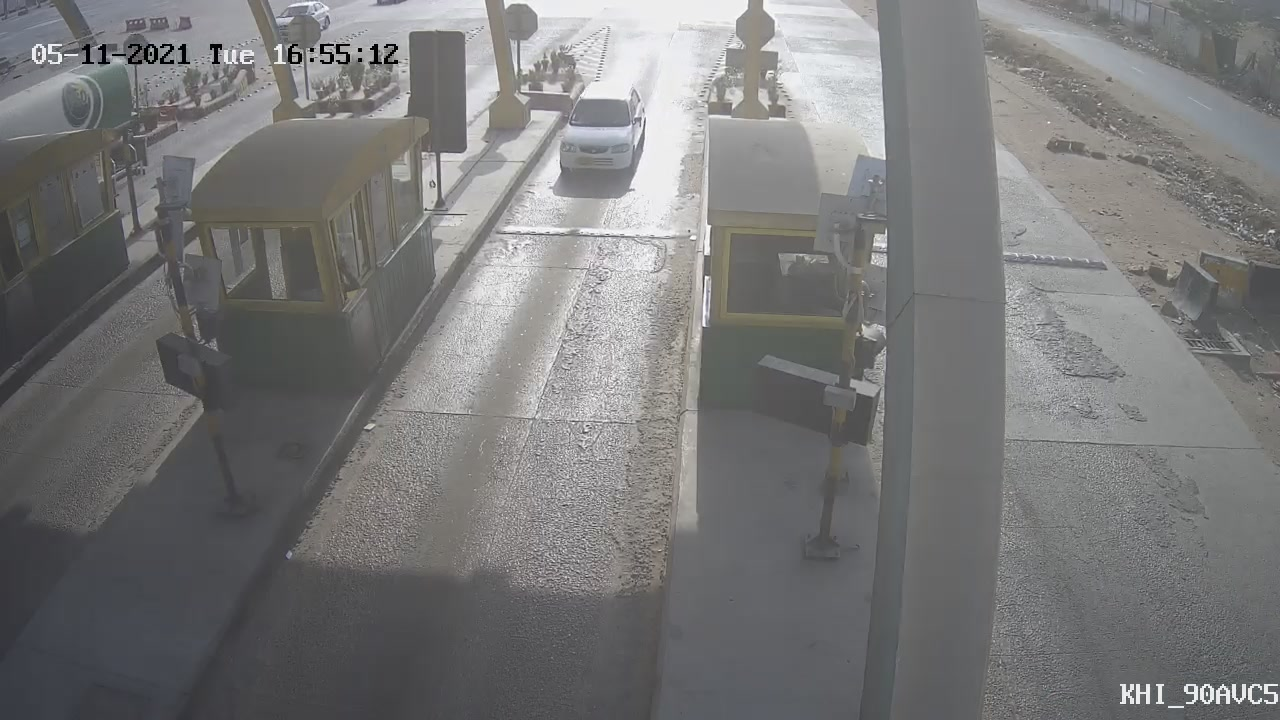F1: (537, 56, 664, 200)
